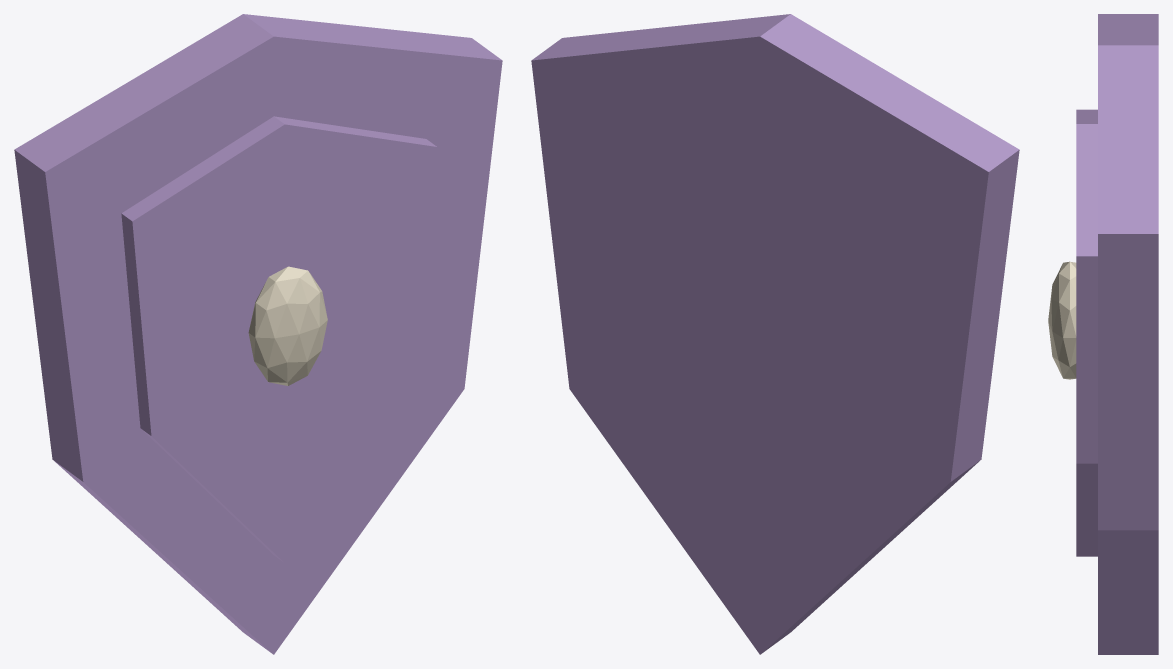
The model's file is fortune-brave.glb.
3 renders of one model, left to right at view 1: azimuth 30°, elevation 25°; view 2: azimuth 150°, elevation 25°; view 3: azimuth 270°, elevation 25°, orthographic.
Parts seen in each view (by area): view 1: Brave shield.001, Ruby shield inset.001, Shield gem.001; view 2: Brave shield.001; view 3: Brave shield.001, Ruby shield inset.001, Shield gem.001.
Part boxes in pixels (x1,y1,x2,y2): Brave shield.001: [14, 14, 502, 654]; Ruby shield inset.001: [121, 116, 437, 562]; Shield gem.001: [248, 266, 327, 385]; Brave shield.001: [531, 14, 1019, 654]; Brave shield.001: [1098, 14, 1158, 654]; Ruby shield inset.001: [1076, 109, 1097, 556]; Shield gem.001: [1048, 261, 1076, 379].
Bounding box in the file's own units: 0.024 × 0.031 × 0.0051.
